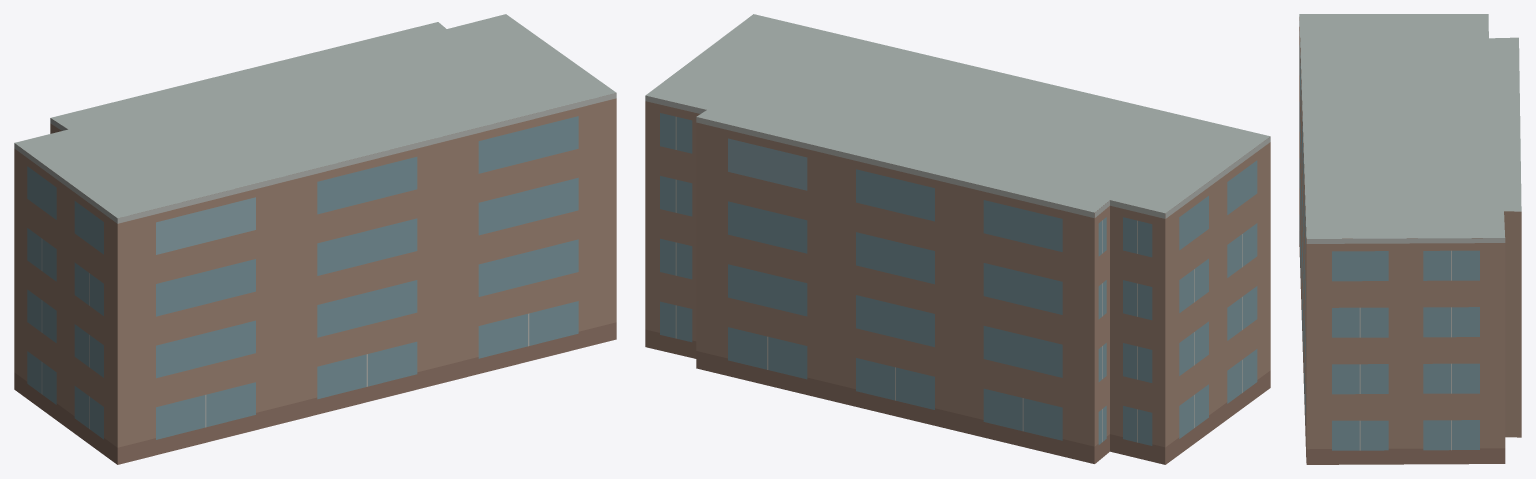
The model's file is survey-upis-32978407.glb.
3 views of the same model, side by side, from view 1: azimuth 30°, elevation 25°; view 2: azimuth 150°, elevation 25°; view 3: azimuth 270°, elevation 25° (orthographic). The views are drawn at different scales.
Visible parts, largest first — view 1: survey-upis-32978407.tmp; view 2: survey-upis-32978407.tmp; view 3: survey-upis-32978407.tmp.
Boxes of the visible parts, x1,y1,x2,y2 form: survey-upis-32978407.tmp: (14, 14, 616, 464); survey-upis-32978407.tmp: (645, 14, 1270, 464); survey-upis-32978407.tmp: (1299, 14, 1521, 464).
Bounding box in the file's own units: 23.37 × 10.94 × 9.76.
